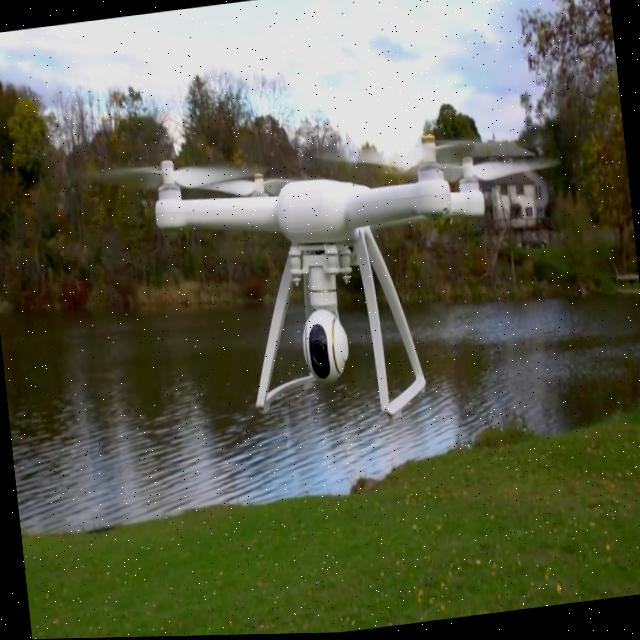drone: (97, 93, 578, 350)
